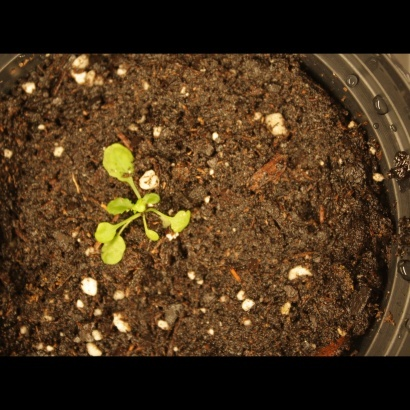leaf: (92, 139, 146, 183), (100, 234, 128, 269), (166, 207, 197, 238), (102, 196, 135, 219), (135, 191, 162, 214), (95, 222, 118, 245), (139, 225, 162, 248)
